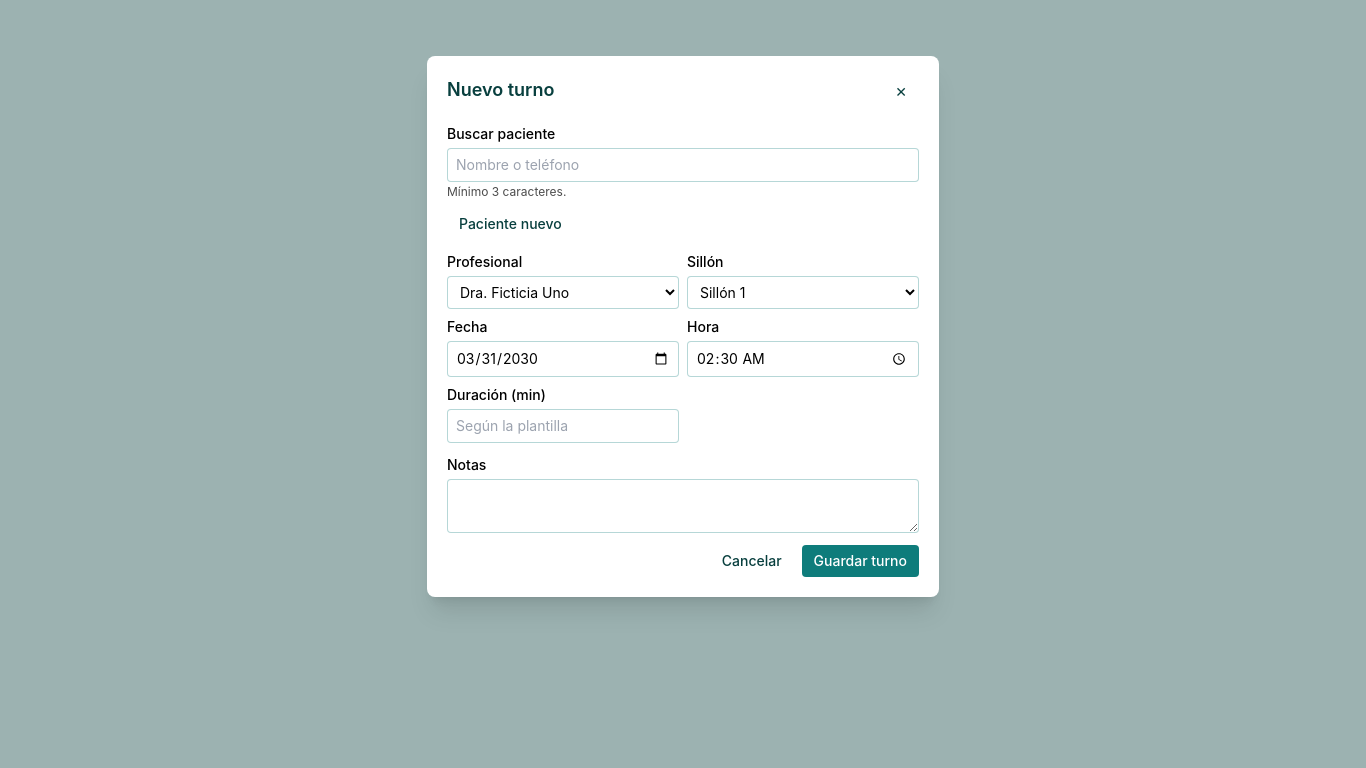
AppointmentForm — colisión › una hora inexistente por cambio de horario no se envía
Type "ana prueba" into the field labelled "Buscar paciente".
click(683, 165); type("ana prueba")  # box [447,148,919,182]
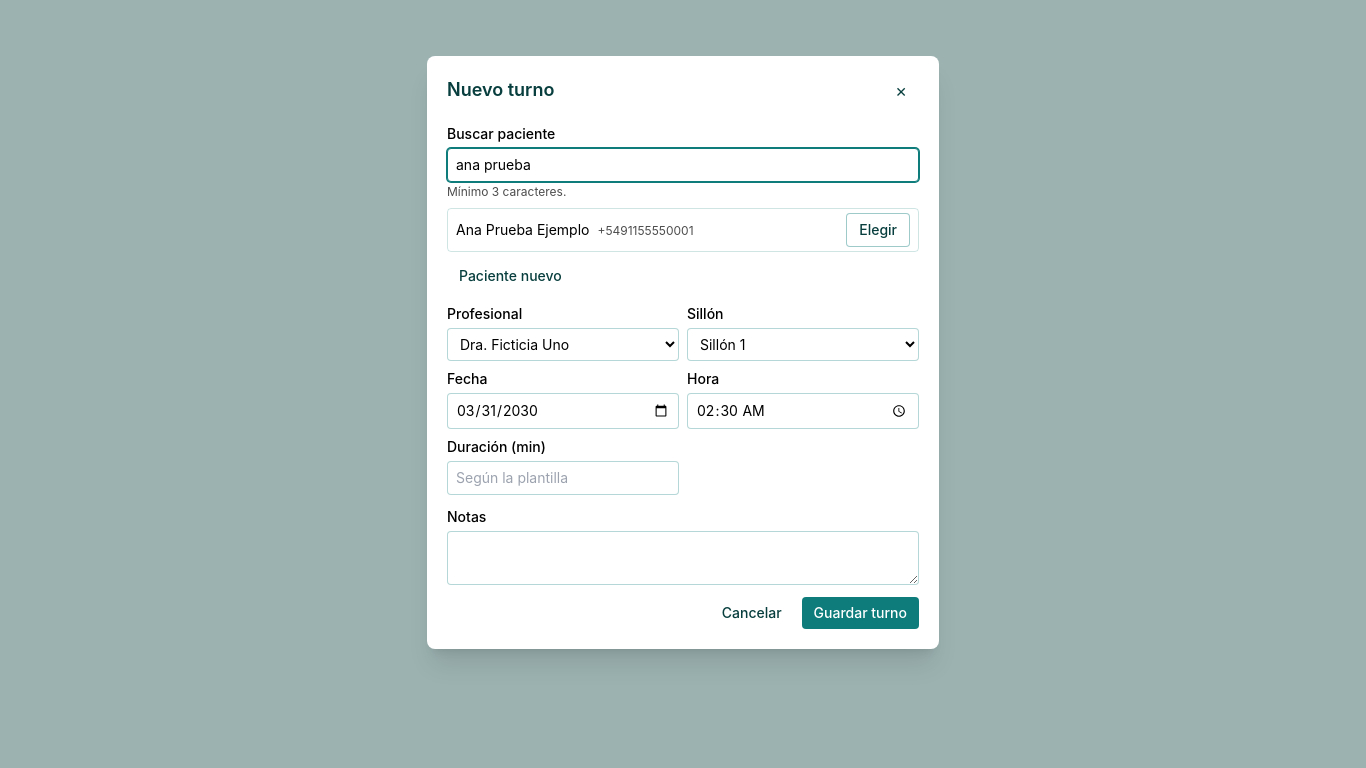
Click the button with aria-label "Elegir Ana Prueba Ejemplo".
click(878, 230)  # box [846,213,910,247]
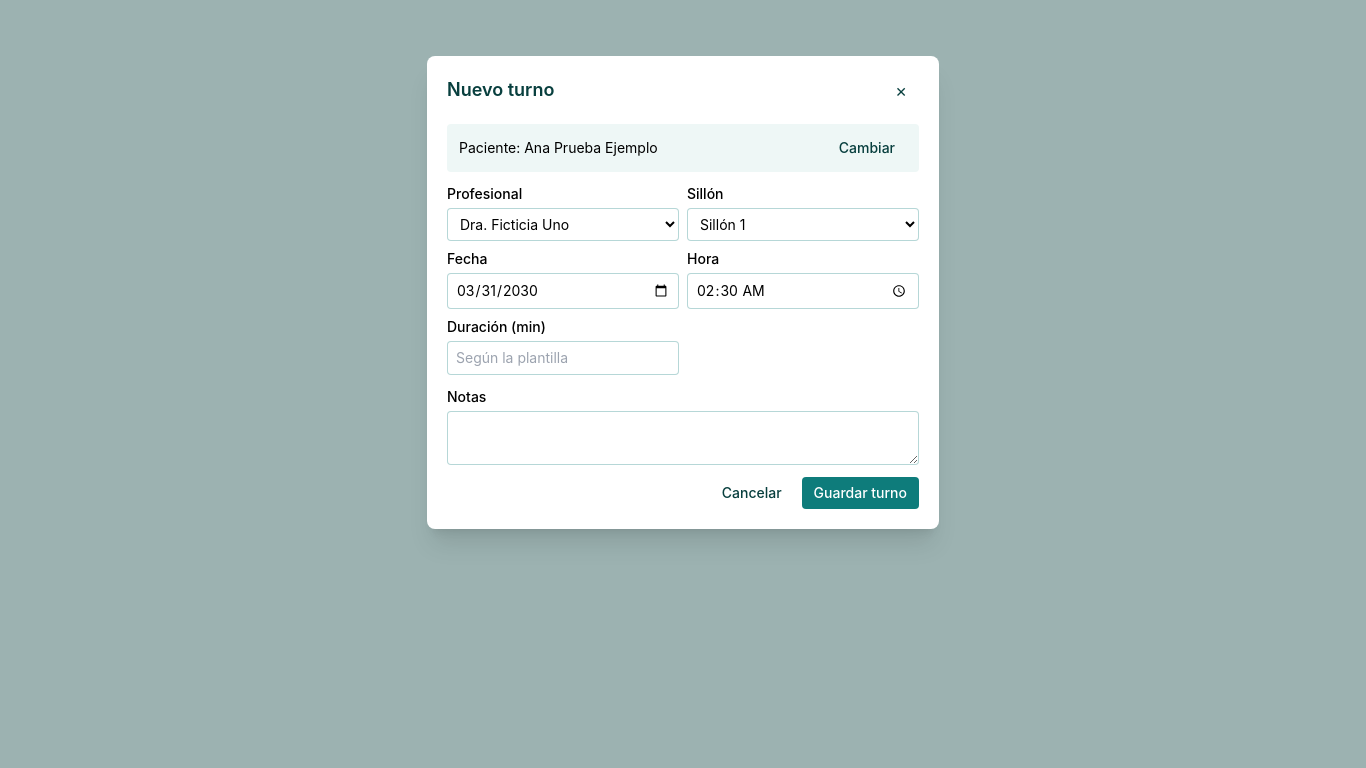
Click the button "Guardar turno".
click(860, 493)  # box [802,477,919,509]
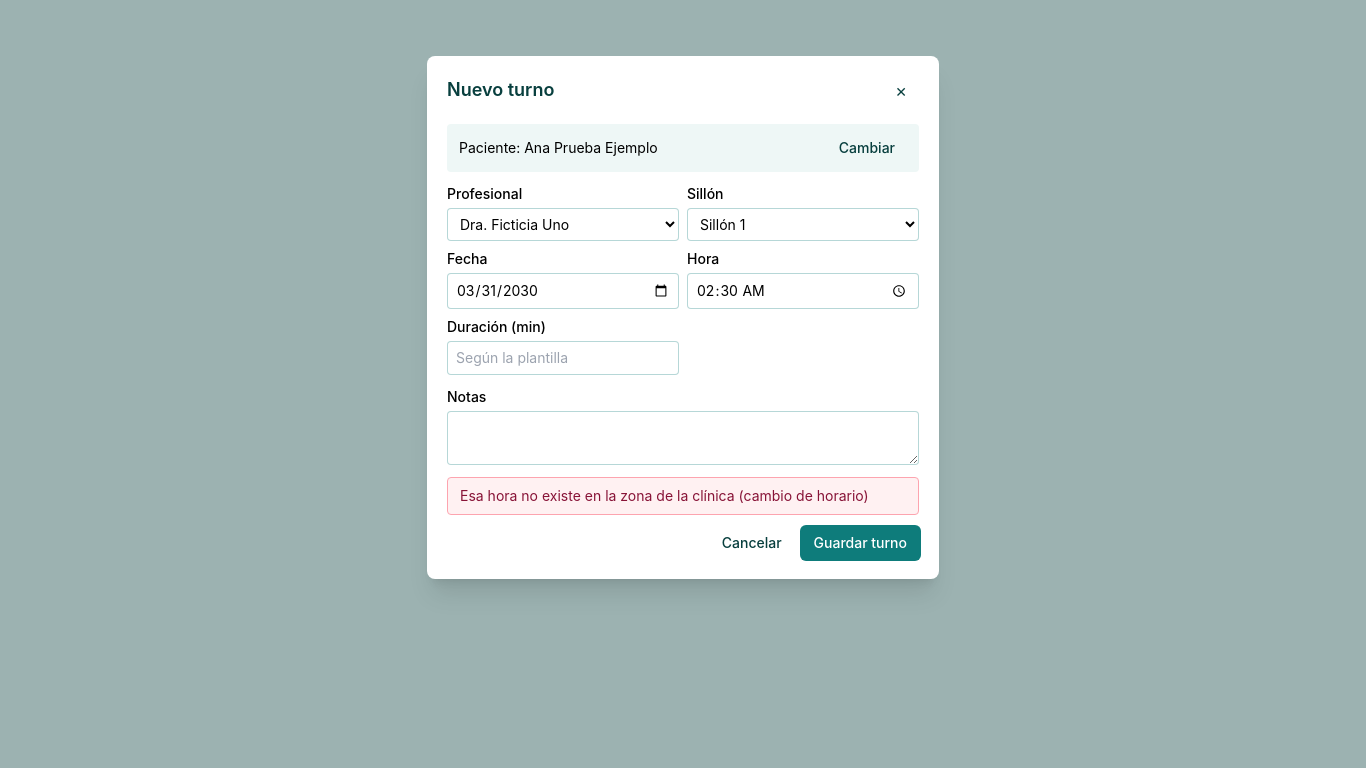
Expected: the message shows "Esa hora no existe en la zona de la clínica", [460,487,869,504]
